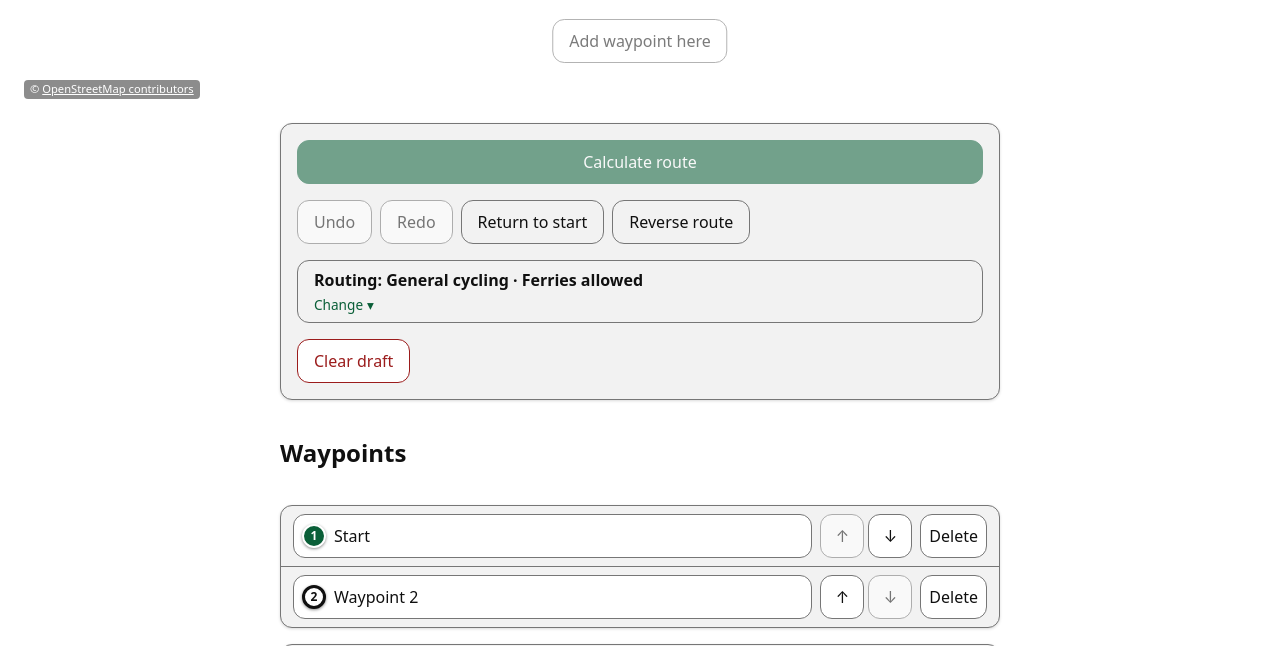
Test case: PlanningScreen Clear draft (backlog item 37) › falls back to safe hardcoded defaults, without surfacing an error, when the Settings-preferences read fails
(page scrolled)
Click the button "Clear draft" at (354, 361), box x1=297 y1=339 x2=410 y2=383
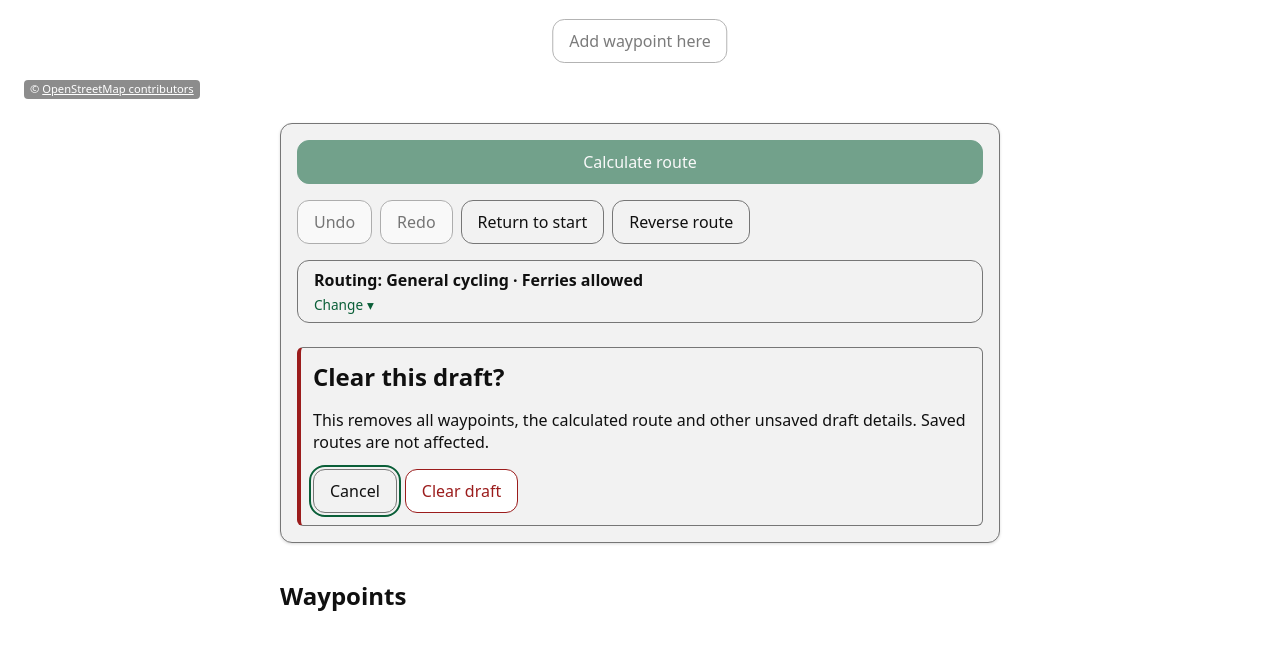
Click the button "Clear draft" at (462, 491), box x1=405 y1=469 x2=518 y2=513
Wait 1 ms
(page scrolled)
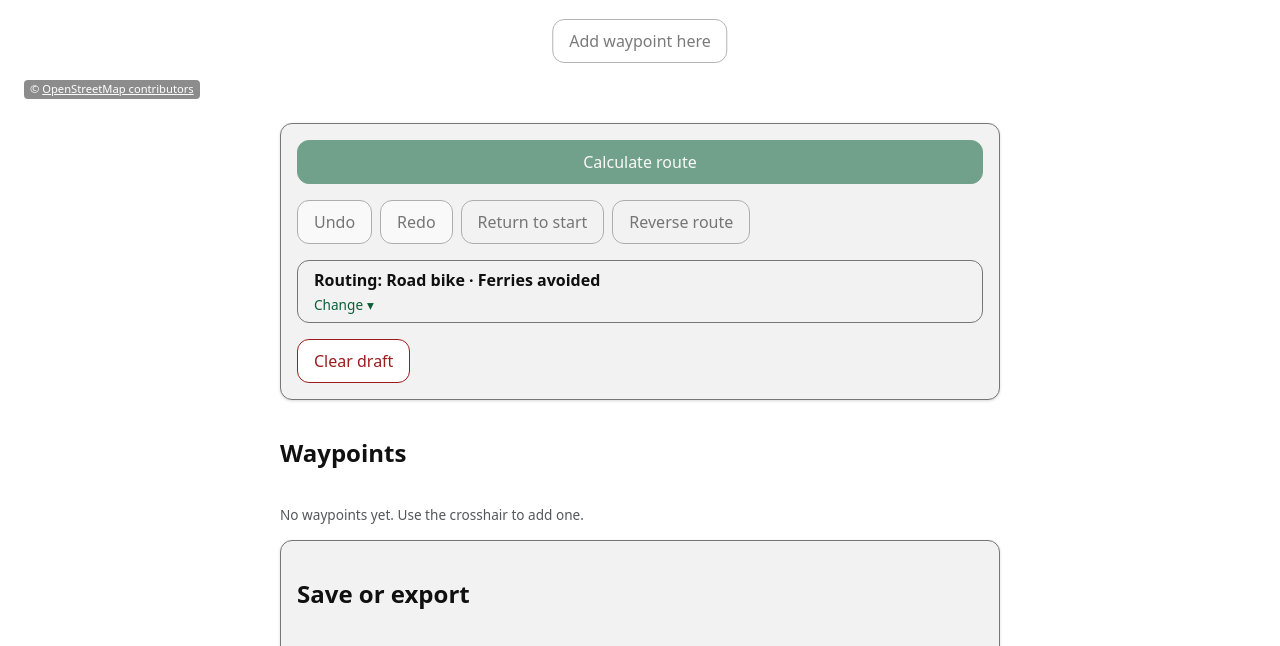
Now the text "No waypoints yet. Use the crosshair to add one." is shown, box x1=280 y1=505 x2=584 y2=524
Click the text "Change" at (338, 304), box x1=314 y1=295 x2=363 y2=314
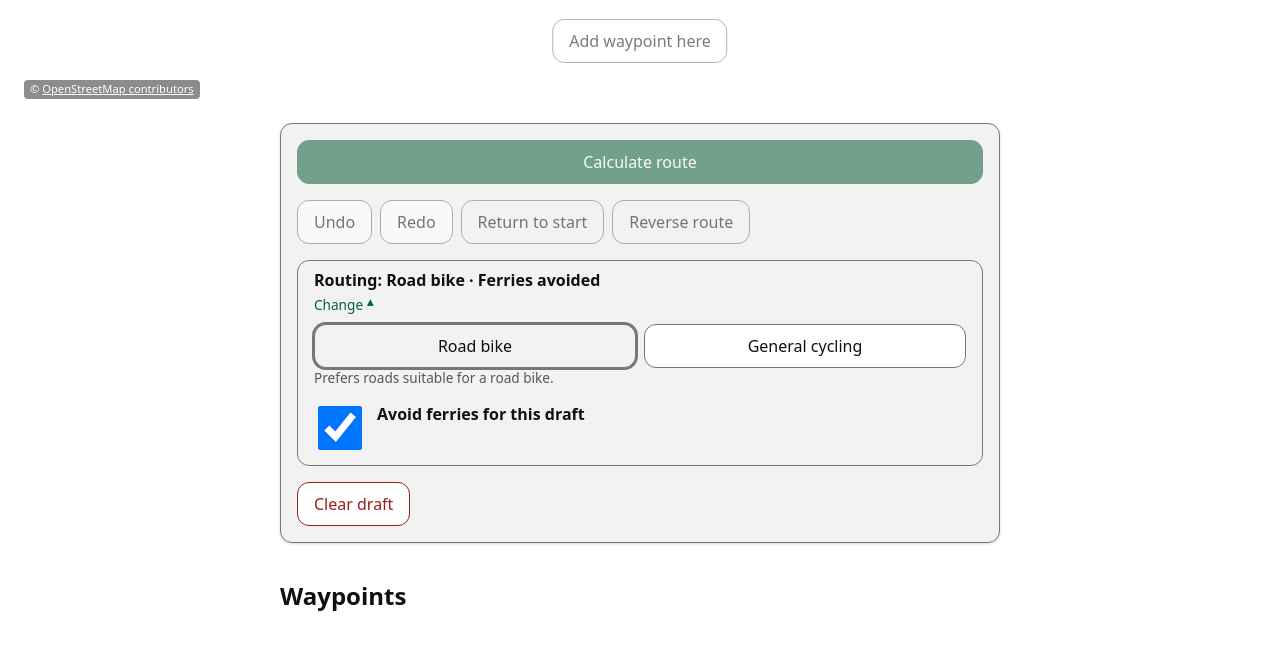
Now the checkbox labelled "Avoid ferries for this draft" is checked, box x1=318 y1=406 x2=362 y2=450
